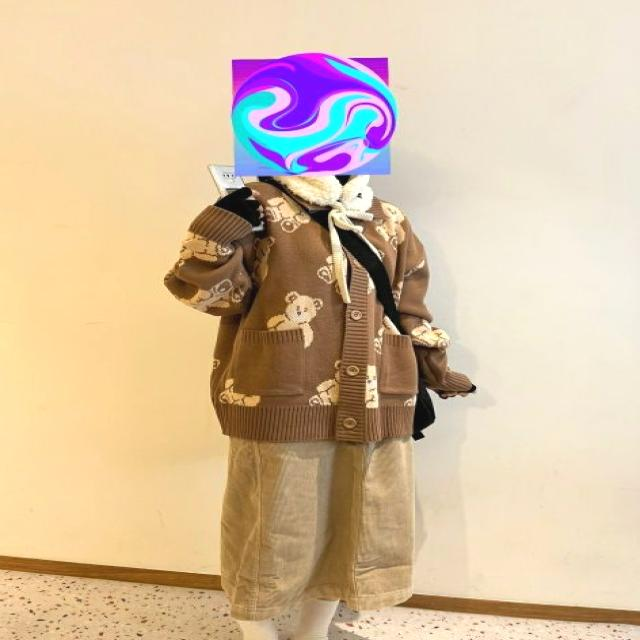cardigan: (163, 175, 479, 446)
skirt: (219, 426, 416, 618)
